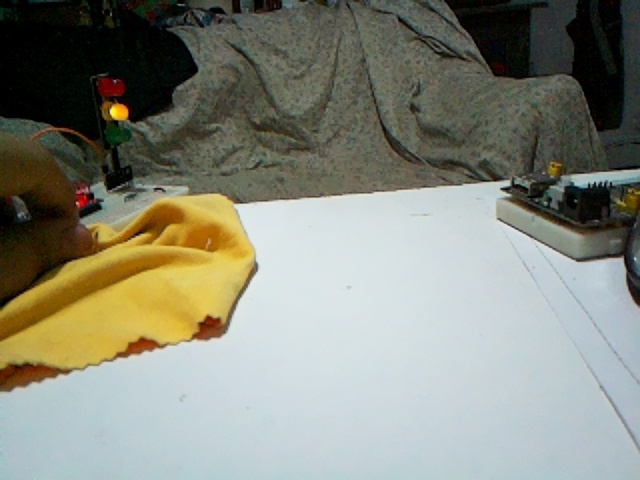traffic_light_yellow: (91, 73, 133, 185)
